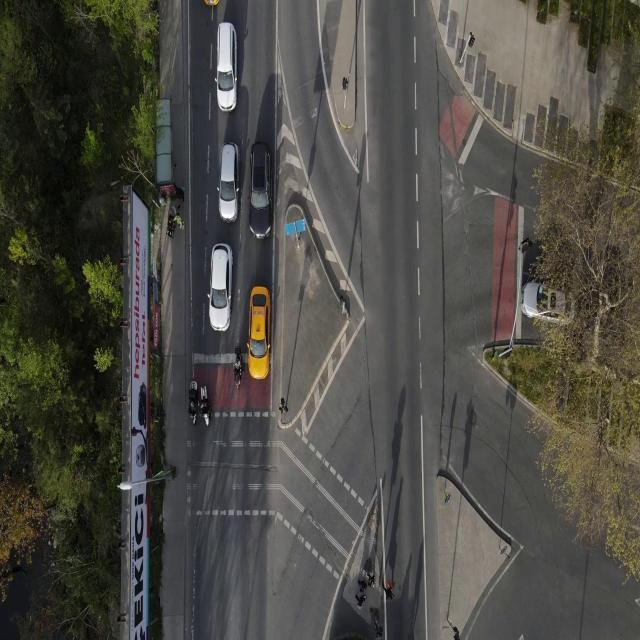p3rson: (382, 580, 394, 600), (172, 215, 185, 231), (170, 204, 182, 216), (355, 594, 366, 607), (358, 580, 368, 593), (176, 188, 184, 202), (367, 574, 375, 588)
